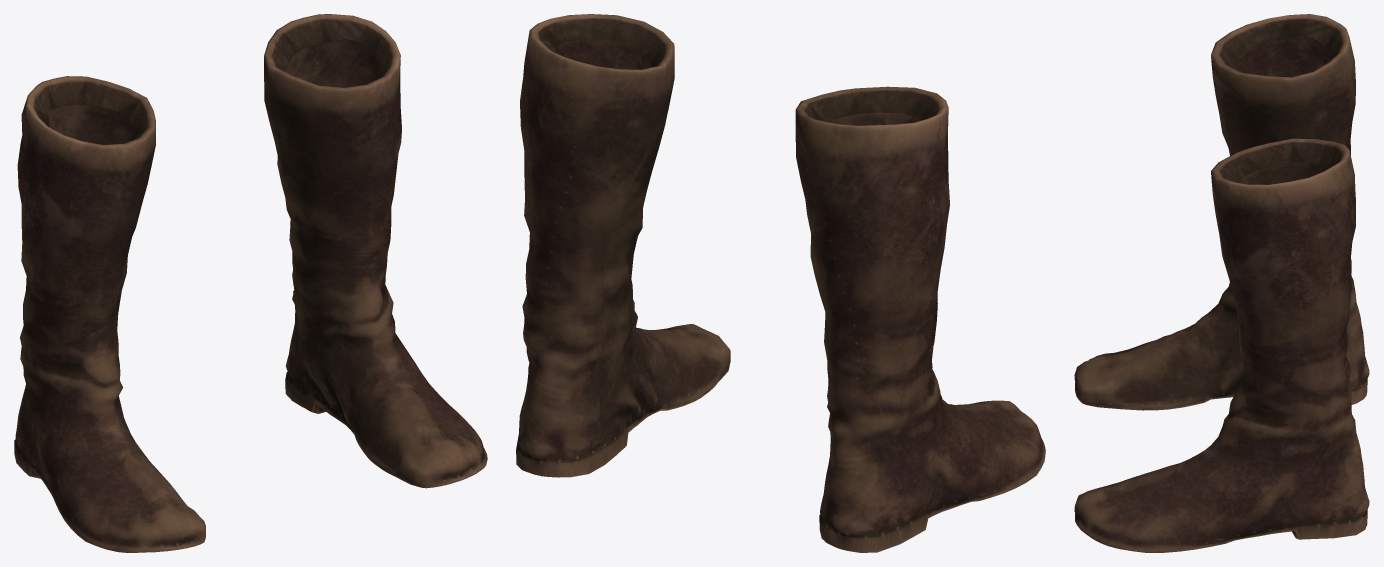
Rendered from cts_rohan_boots3.fbx.
3 views of the same model, side by side, from view 1: azimuth 30°, elevation 25°; view 2: azimuth 150°, elevation 25°; view 3: azimuth 270°, elevation 25° (orthographic). The views are drawn at different scales.
Visible parts, largest first — view 1: cts_rohan_boots3; view 2: cts_rohan_boots3; view 3: cts_rohan_boots3.
Boxes of the visible parts, bbox=[...] form: cts_rohan_boots3: bbox=[14, 14, 487, 552]; cts_rohan_boots3: bbox=[516, 14, 1045, 552]; cts_rohan_boots3: bbox=[1074, 14, 1369, 552].
Bounding box in the file's own units: 0.4647 × 0.3066 × 0.4213.
